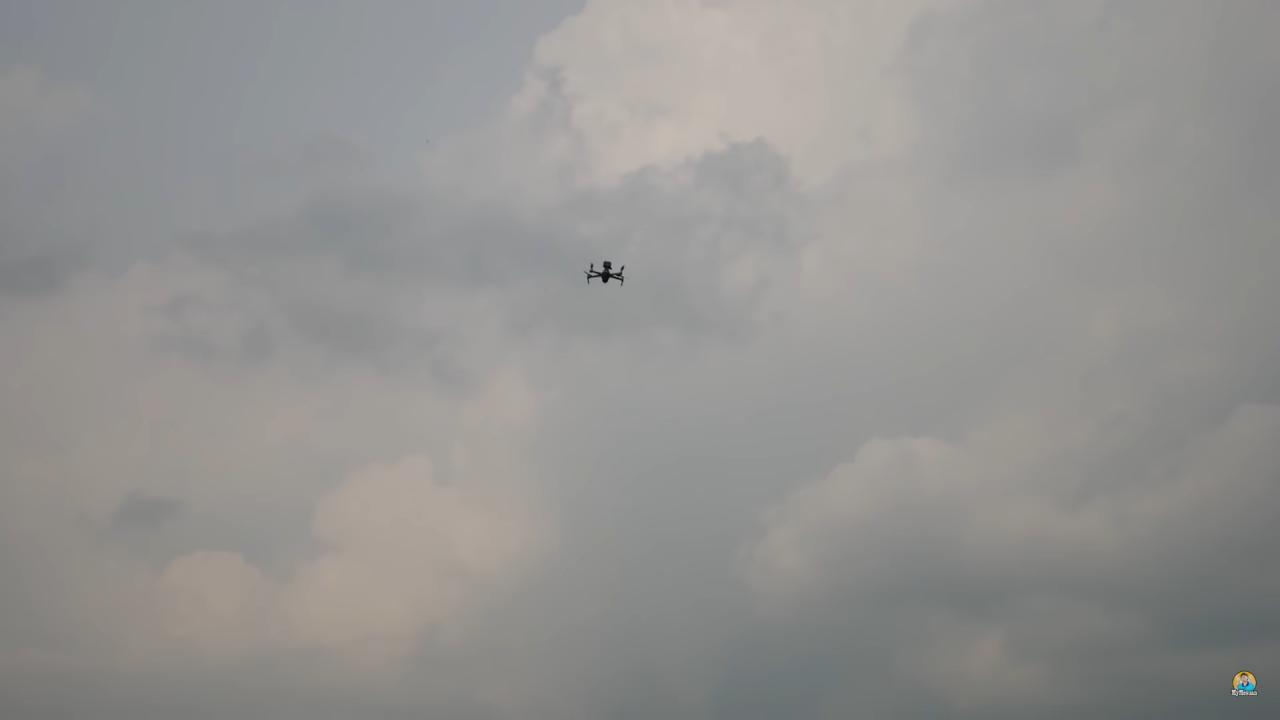Drone: (568, 247, 643, 300)
